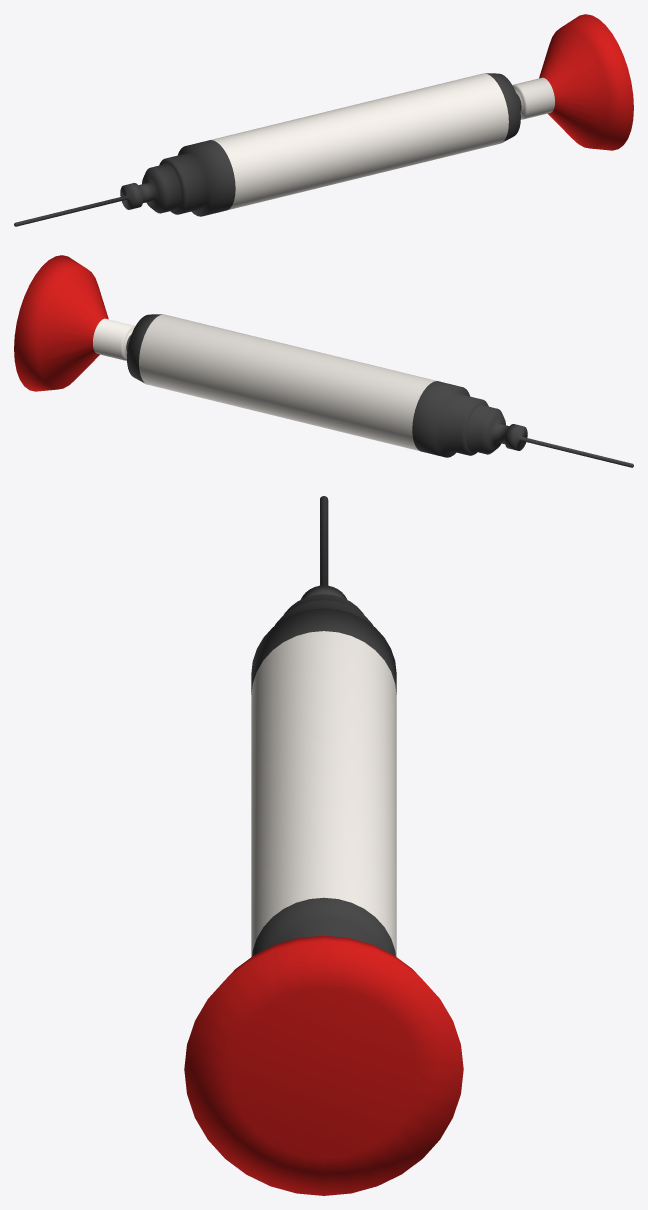
Rendered from Dart.fbx.
3 renders of one model, top to bottom at view 1: azimuth 30°, elevation 25°; view 2: azimuth 150°, elevation 25°; view 3: azimuth 270°, elevation 25°, orthographic. The views are drawn at different scales.
Parts seen in each view (by area): view 1: Cylinder; view 2: Cylinder; view 3: Cylinder.
Part boxes in pixels (bbox=[...]): Cylinder: bbox=[14, 14, 633, 226]; Cylinder: bbox=[14, 255, 633, 467]; Cylinder: bbox=[184, 496, 463, 1195].
Bounding box in the file's own units: 28.12 × 5.78 × 5.78.
